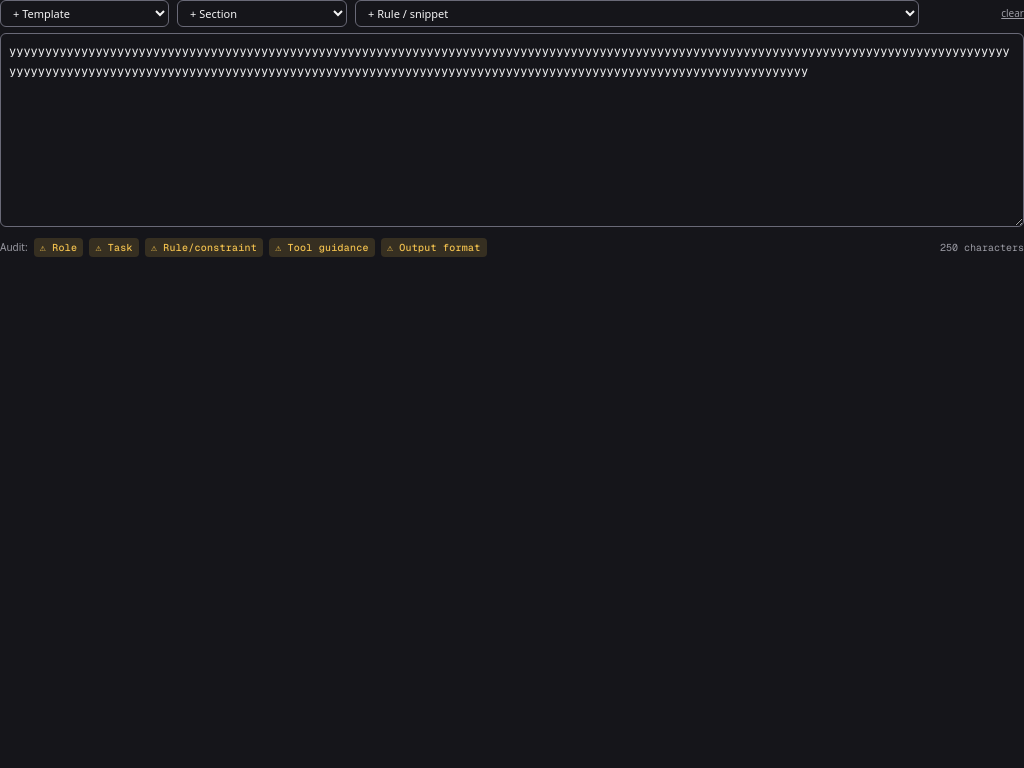
it: PromptEditor clear (long text) › cancelling the confirm dialog leaves the text untouched (no clear happened)
Click the button "clear" at (1013, 14), box left=1001, top=6, right=1023, bottom=21
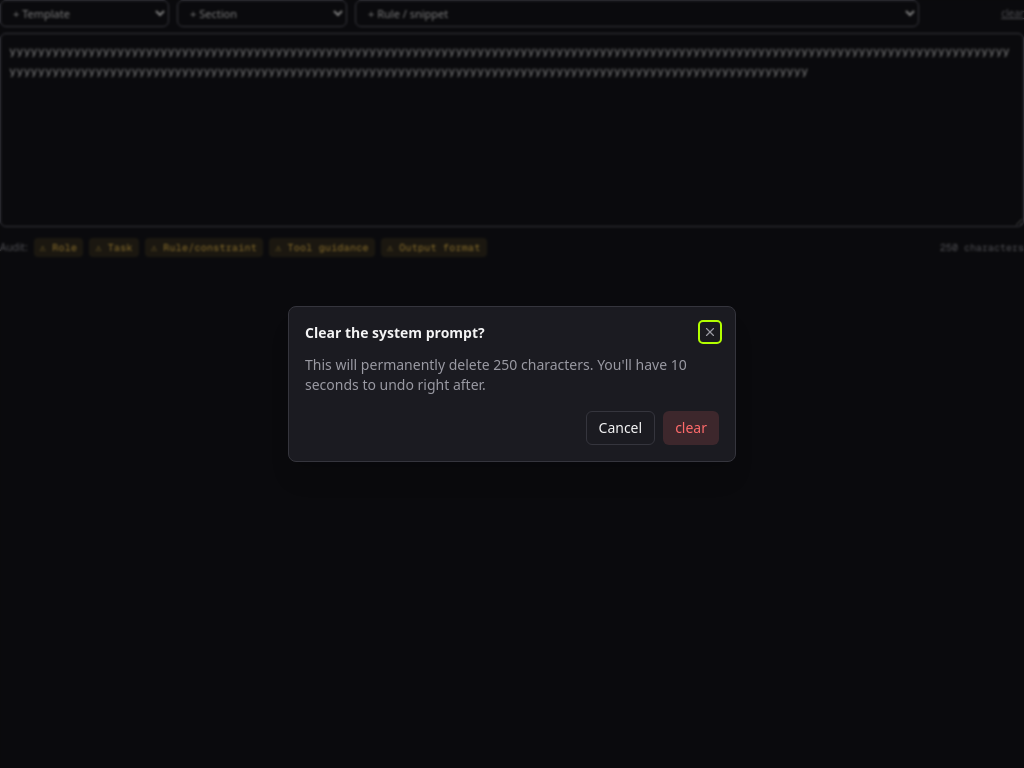
Now the heading "Clear the system prompt?" is shown, box left=305, top=323, right=485, bottom=343
Click the button "Cancel" at (620, 428), box left=586, top=411, right=655, bottom=445
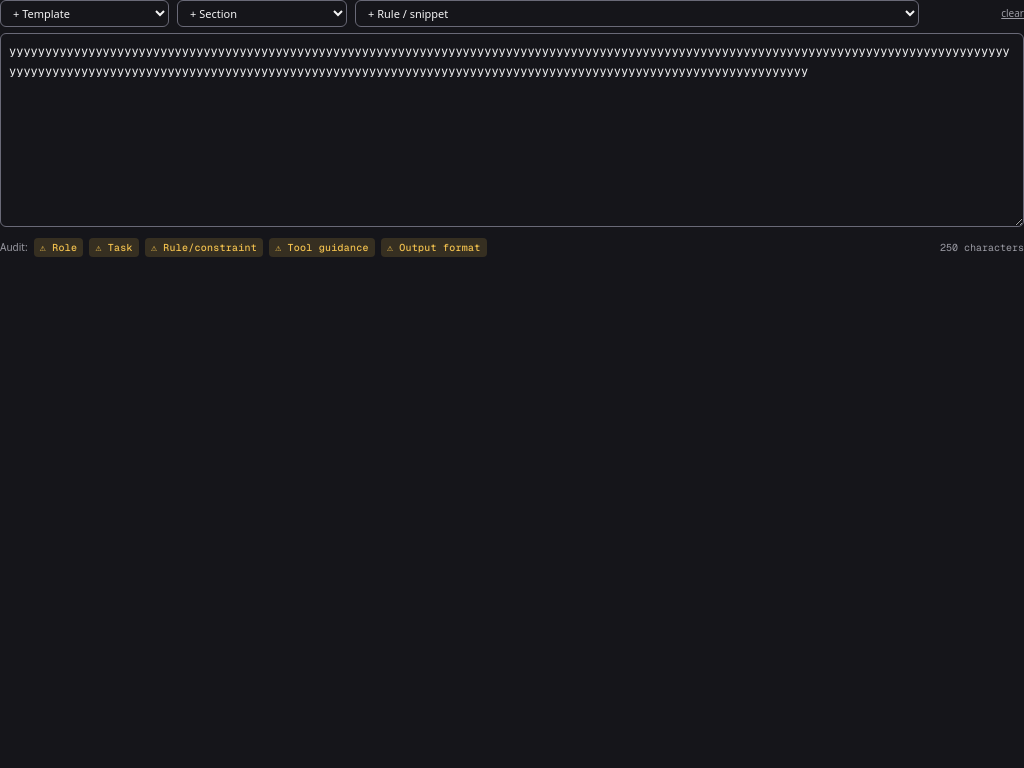
Now the text "undo" is gone
